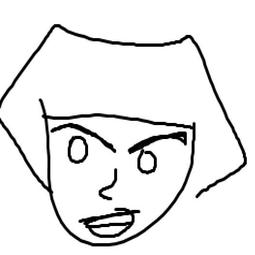empty_eye: (64, 134, 90, 167), (133, 150, 161, 176)
frowning_eyebrow: (50, 120, 119, 155), (124, 128, 190, 158)
nose: (95, 166, 121, 200)
open_mouth: (79, 203, 137, 243)
